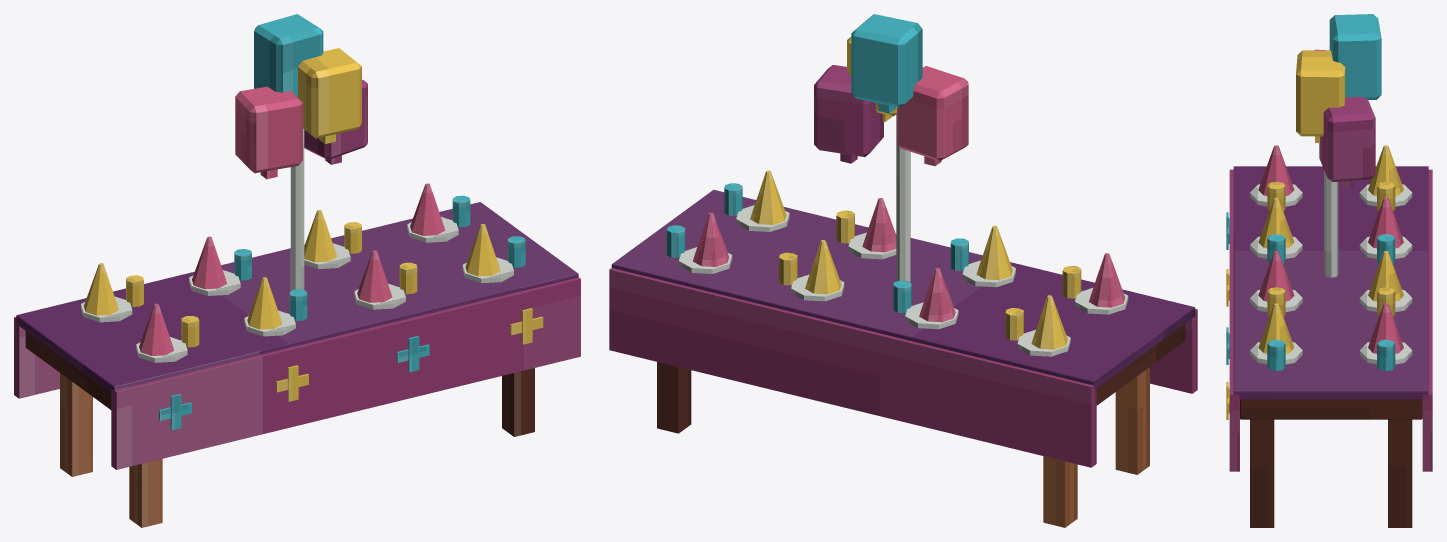
File: restaurant_party_table.glb
3 renders of one model, left to right at view 1: azimuth 30°, elevation 25°; view 2: azimuth 150°, elevation 25°; view 3: azimuth 270°, elevation 25°, orthographic. The views are drawn at different scales.
Parts seen in each view (by area): view 1: PartyClothFront, PartyClothTop, BlockBalloon_1, BlockBalloon_2, BlockBalloon_3, PartyTableLeg_3, PartyTableLeg_1, PartyTableLeg_2, PartyClothBack, BalloonStem, BlockBalloon_4, PartyTableTop (+8 smaller); view 2: PartyClothBack, PartyClothTop, BlockBalloon_3, BlockBalloon_1, BlockBalloon_4, PartyTableLeg_1, PartyTableLeg_3, PartyTableLeg_4, PartyClothFront, BalloonStem, PartyTableTop, PartyHat_1_B (+7 smaller); view 3: PartyClothTop, BlockBalloon_4, PartyTableTop, BlockBalloon_3, BlockBalloon_2, PartyTableLeg_2, PartyTableLeg_4, PartyClothFront, PartyClothBack, BalloonStem, PartyHat_2_F, PartyHat_1_F (+22 smaller).
Boxes of the visible parts, x1,y1,x2,y2 form: PartyClothFront: [111, 277, 580, 469]; PartyClothTop: [16, 202, 578, 392]; BlockBalloon_1: [235, 86, 302, 173]; BlockBalloon_2: [298, 48, 361, 138]; BlockBalloon_3: [254, 14, 323, 96]; PartyTableLeg_3: [60, 373, 92, 476]; PartyTableLeg_1: [129, 459, 162, 527]; PartyTableLeg_2: [502, 368, 534, 436]; PartyClothBack: [14, 317, 59, 398]; BalloonStem: [290, 129, 304, 290]; BlockBalloon_4: [304, 79, 367, 159]; PartyTableTop: [25, 331, 111, 409]; PartyClothBack: [609, 268, 1096, 467]; PartyClothTop: [611, 189, 1195, 389]; BlockBalloon_3: [851, 14, 922, 107]; BlockBalloon_1: [897, 66, 968, 161]; BlockBalloon_4: [814, 65, 883, 156]; PartyTableLeg_1: [1115, 367, 1149, 474]; PartyTableLeg_3: [1043, 456, 1077, 527]; PartyTableLeg_4: [657, 362, 691, 433]; PartyClothFront: [1150, 309, 1197, 393]; BalloonStem: [896, 114, 910, 281]; PartyTableTop: [1096, 324, 1185, 405]; PartyHat_1_B: [1031, 295, 1067, 349]; PartyClothTop: [1233, 166, 1428, 399]; BlockBalloon_4: [1319, 97, 1375, 182]; PartyTableTop: [1240, 399, 1422, 419]; BlockBalloon_3: [1329, 14, 1381, 99]; BlockBalloon_2: [1296, 50, 1345, 136]; PartyTableLeg_2: [1250, 419, 1274, 527]; PartyTableLeg_4: [1388, 419, 1412, 527]; PartyClothFront: [1229, 169, 1239, 471]; PartyClothBack: [1422, 169, 1432, 471]; BalloonStem: [1324, 170, 1338, 277]; PartyHat_2_F: [1258, 197, 1294, 248]; PartyHat_1_F: [1258, 145, 1294, 195].
Size of the model in its own units: 2.62 by 2.23 by 1.02.
1 material, 1 textured.
